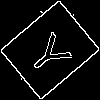Y: (25, 25, 80, 81)
